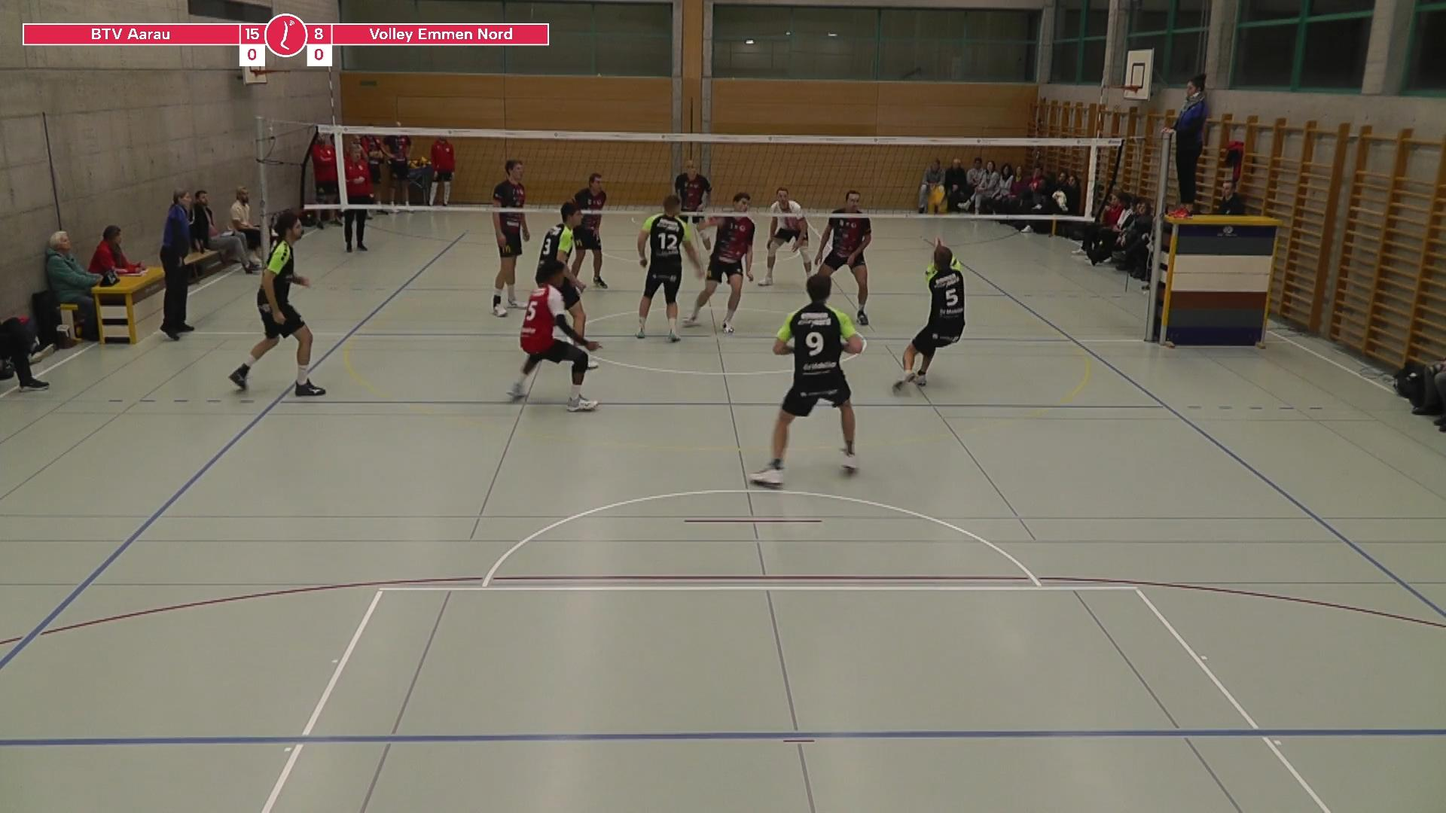difesa: (887, 227, 984, 390)
